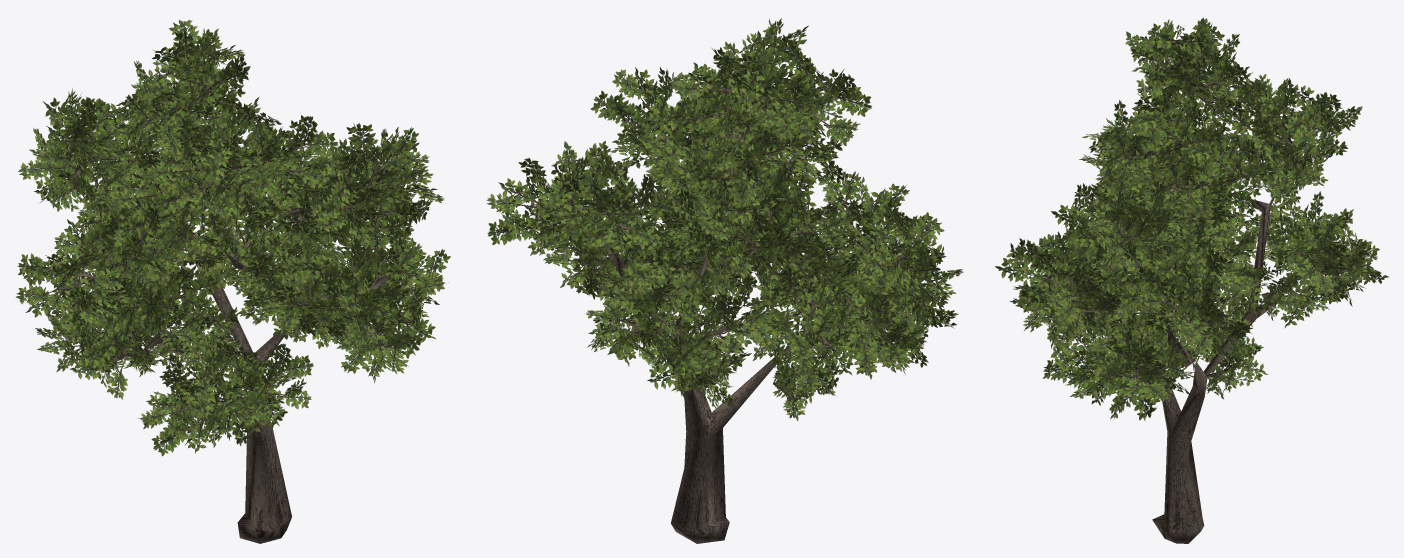
File: real.glb
3 renders of one model, left to right at view 1: azimuth 30°, elevation 25°; view 2: azimuth 150°, elevation 25°; view 3: azimuth 270°, elevation 25°, orthographic. The views are drawn at different scales.
Visible parts, largest first — view 1: crown merged_normal leaves_0, br_low_trunk_0; view 2: crown merged_normal leaves_0, br_low_trunk_0; view 3: crown merged_normal leaves_0, br_low_trunk_0.
Boxes of the visible parts, box(x1,y1,x2,y2) form: crown merged_normal leaves_0: box(16, 19, 450, 456); br_low_trunk_0: box(46, 67, 412, 543); crown merged_normal leaves_0: box(486, 18, 963, 420); br_low_trunk_0: box(520, 54, 932, 543); crown merged_normal leaves_0: box(995, 17, 1389, 420); br_low_trunk_0: box(1034, 51, 1347, 543).
Bounding box in the file's own units: 0.8938 × 0.9917 × 0.7303.
Materials: 2 (2 with a texture image).
